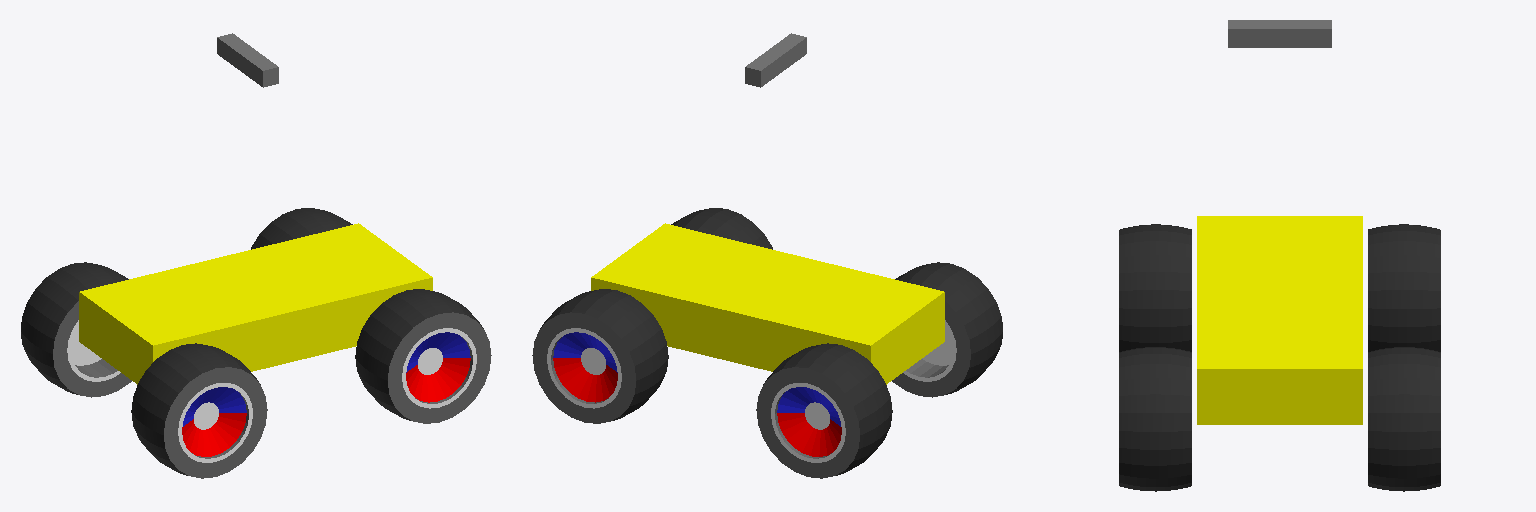
robot.urdf — rover:
<?xml version="1.0"?>
<robot name="rover" xmlns:xacro="http://ros.org/wiki/xacro">

  <material name="blue">
    <color rgba="0.0 0.0 0.8 1.0"/>
  </material>
  <material name="grey">
    <color rgba="0.5 0.5 0.5 1.0"/>
  </material>
  <material name="red">
    <color rgba="0.8 0.0 0.0 1.0"/>
  </material>
  <material name="indigo">
    <color rgba="0.33 0.0 0.5 1.0"/>
  </material>
  <material name="yellow">
    <color rgba="1.0 1.0 0.0 1.0"/>
  </material>
  <material name="white">
    <color rgba="1.0 1.0 1.0 1.0"/>
  </material>
  <material name="black">
    <color rgba="0.01 0.01 0.01 0.9"/>
  </material>

  <link name="base_footprint"/>

  <joint name="base_joint" type="fixed">
    <parent link="base_footprint"/>
    <child link="base_link"/>
    <origin xyz="0 0 0.07" rpy="0 0 0"/>
  </joint>

  <link name="base_link">
    <visual>
      <origin xyz="0 0 0.04" rpy="0 0 0"/>
      <geometry>
        <box size="0.35 0.16 0.06"/>
      </geometry>
      <material name="yellow"/>
    </visual>
  </link>

  <joint name="front_left_wheel_joint" type="continuous">
    <parent link="base_link"/>
    <child link="front_left_wheel"/>
    <origin xyz="0.14 0.12 0.0" rpy="-1.5707 0 0"/>
    <axis xyz="0 0 1"/>
  </joint>

  <joint name="rear_left_wheel_joint" type="continuous">
    <parent link="base_link"/>
    <child link="rear_left_wheel"/>
    <origin xyz="-0.14 0.12 0.0" rpy="-1.5707 0 0"/>
    <axis xyz="0 0 1"/>
  </joint>

  <joint name="front_right_wheel_joint" type="continuous">
    <parent link="base_link"/>
    <child link="front_right_wheel"/>
    <origin xyz="0.14 -0.12 0.0" rpy="-1.5707 0 0"/>
    <axis xyz="0 0 1"/>
  </joint>

  <joint name="rear_right_wheel_joint" type="continuous">
    <parent link="base_link"/>
    <child link="rear_right_wheel"/>
    <origin xyz="-0.14 -0.12 0.0" rpy="-1.5707 0 0"/>
    <axis xyz="0 0 1"/>
  </joint>

  <link name="front_left_wheel">
    <visual>
      <origin xyz="0 0 0" rpy="0 0 0"/>
      <geometry>
        <mesh filename="package://rosrider_description/meshes/rover_wheel_left.dae" scale="1 1 1"/>
      </geometry>
    </visual>
  </link>

  <link name="rear_left_wheel">
    <visual>
      <origin xyz="0 0 0" rpy="0 0 0"/>
      <geometry>
        <mesh filename="package://rosrider_description/meshes/rover_wheel_left.dae" scale="1 1 1"/>
      </geometry>
    </visual>
  </link>

  <link name="front_right_wheel">
    <visual>
      <origin xyz="0 0 0" rpy="0 0 0"/>
      <geometry>
        <mesh filename="package://rosrider_description/meshes/rover_wheel_right.dae" scale="1 1 1"/>
      </geometry>
    </visual>
  </link>

  <link name="rear_right_wheel">
    <visual>
      <origin xyz="0 0 0" rpy="0 0 0"/>
      <geometry>
        <mesh filename="package://rosrider_description/meshes/rover_wheel_right.dae" scale="1 1 1"/>
      </geometry>
    </visual>
  </link>

  <joint name="scan_joint" type="fixed">
    <parent link="base_link"/>
    <child link="base_scan_3d"/>
    <origin xyz="0 0.0 0.34" rpy="0 0 0"/>
  </joint>
  <link name="base_scan_3d">
    <visual>
      <origin xyz="-0.01 0 0" rpy="0 0 0"/>
      <geometry>
        <box size="0.02 0.1 0.02"/>
      </geometry>
      <material name="grey"/>
    </visual>
  </link>

  <joint name="imu_joint" type="fixed">
    <parent link="base_link"/>
    <child link="imu_link"/>
    <origin xyz="0 0 0.04" rpy="0 0 0"/>
  </joint>
  <link name="imu_link">
    <visual>
      <origin xyz="0 0 0" rpy="0 0 0"/>
      <geometry>
        <mesh filename="package://rosrider_description/meshes/fximu3e.dae" scale="1 1 1"/>
      </geometry>
    </visual>
  </link>

</robot>

--- Render facts (derived) ---
The picture shows the robot from 3 angles, left to right: view 1: azimuth 30°, elevation 25°; view 2: azimuth 150°, elevation 25°; view 3: azimuth 270°, elevation 25°; orthographic projection.
Model rover with 8 links and 7 joints (4 continuous, 3 fixed), rooted at base_footprint, posed every joint at zero.
Visible links, largest first — view 1: base_link, front_right_wheel, rear_right_wheel, rear_left_wheel, front_left_wheel, base_scan_3d; view 2: base_link, front_left_wheel, rear_left_wheel, rear_right_wheel, front_right_wheel, base_scan_3d; view 3: base_link, front_right_wheel, front_left_wheel, rear_left_wheel, rear_right_wheel, base_scan_3d.
Link boxes in pixels (<box>): base_link: <box>79,223,432,384</box>; front_right_wheel: <box>355,289,491,423</box>; rear_right_wheel: <box>131,343,267,478</box>; rear_left_wheel: <box>21,262,131,397</box>; front_left_wheel: <box>251,208,352,249</box>; base_scan_3d: <box>217,33,278,87</box>; base_link: <box>591,223,944,384</box>; front_left_wheel: <box>532,289,668,423</box>; rear_left_wheel: <box>756,343,892,478</box>; rear_right_wheel: <box>892,262,1002,397</box>; front_right_wheel: <box>671,208,772,249</box>; base_scan_3d: <box>745,33,806,87</box>; base_link: <box>1197,216,1362,424</box>; front_right_wheel: <box>1119,347,1191,491</box>; front_left_wheel: <box>1368,347,1440,491</box>; rear_left_wheel: <box>1368,224,1440,351</box>; rear_right_wheel: <box>1119,224,1191,351</box>; base_scan_3d: <box>1228,20,1331,47</box>.
Bounding box of the posed robot: 0.42 × 0.31 × 0.42 m (x, y, z).
Meshes: 3 distinct files referenced, 5 mesh visuals loaded (3 Collada DAE).
